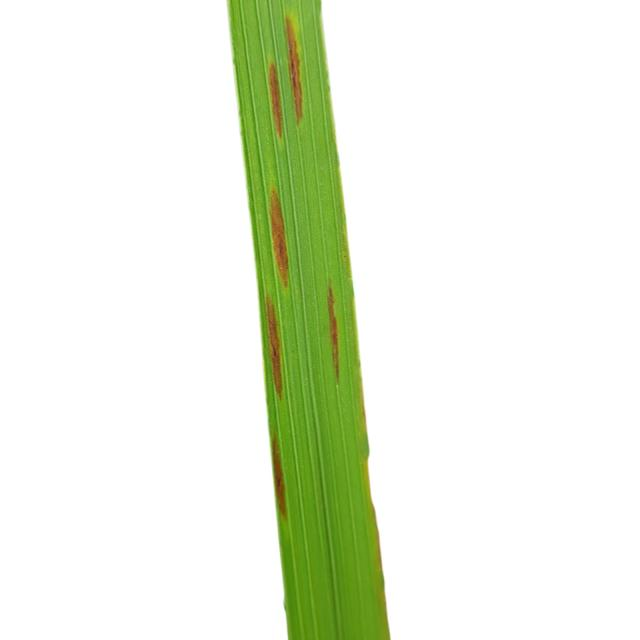Narrow brown: (210, 0, 398, 640)
